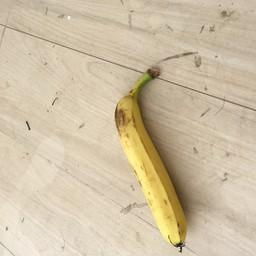Banana Ripe: (93, 64, 231, 256)
